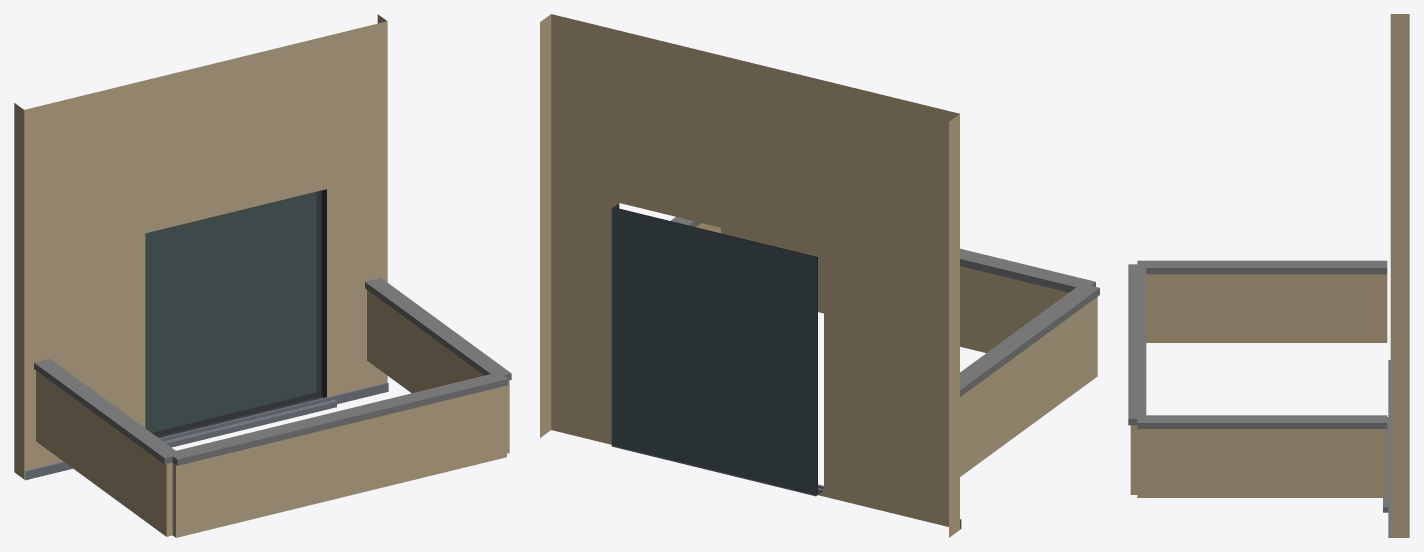
The model's file is mid-stair3.fbx.
The picture shows the model from 3 angles, left to right: view 1: azimuth 30°, elevation 25°; view 2: azimuth 150°, elevation 25°; view 3: azimuth 270°, elevation 25°; orthographic projection. The views are drawn at different scales.
Visible parts, largest first — view 1: a2000/800/mid-stair; view 2: a2000/800/mid-stair; view 3: a2000/800/mid-stair.
Boxes of the visible parts, <box> form: a2000/800/mid-stair: <box>14,14,511,537</box>; a2000/800/mid-stair: <box>540,14,1099,537</box>; a2000/800/mid-stair: <box>1128,14,1409,537</box>.
Size of the model in its own units: 3.6 by 3.5 by 2.52.
